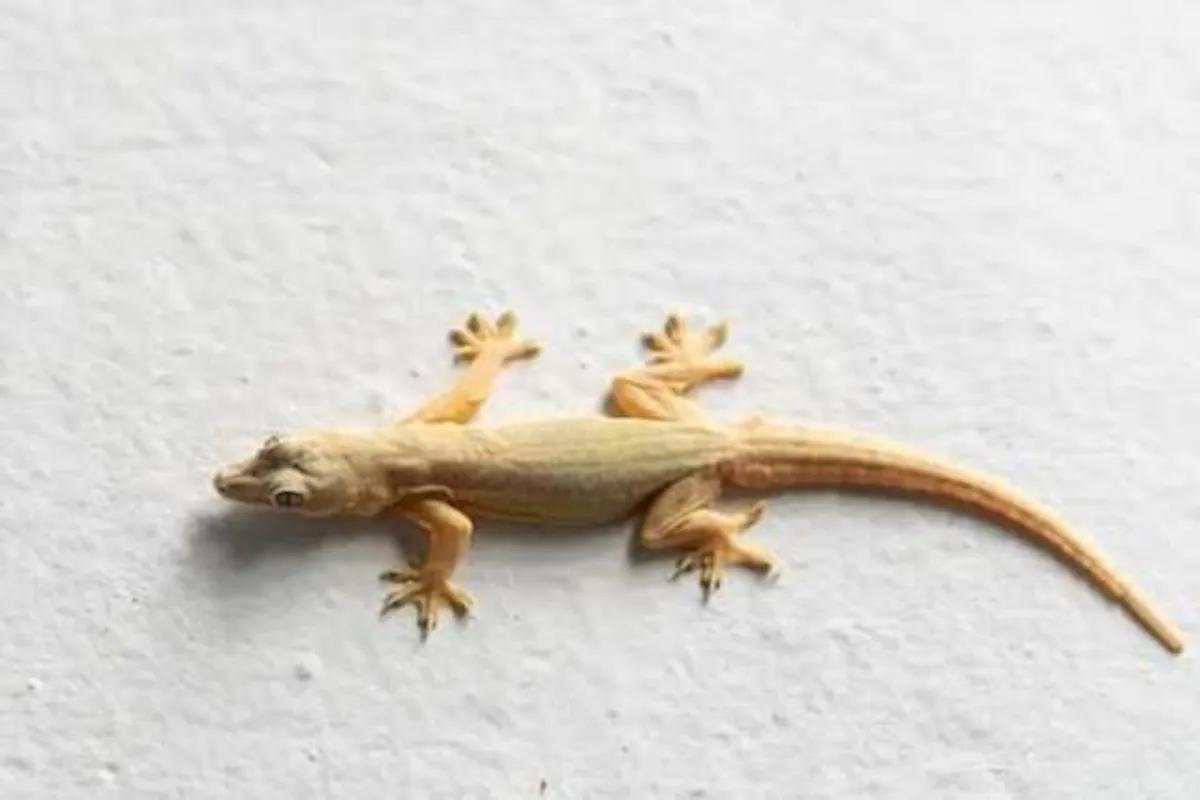lizard: (204, 306, 1184, 668)
